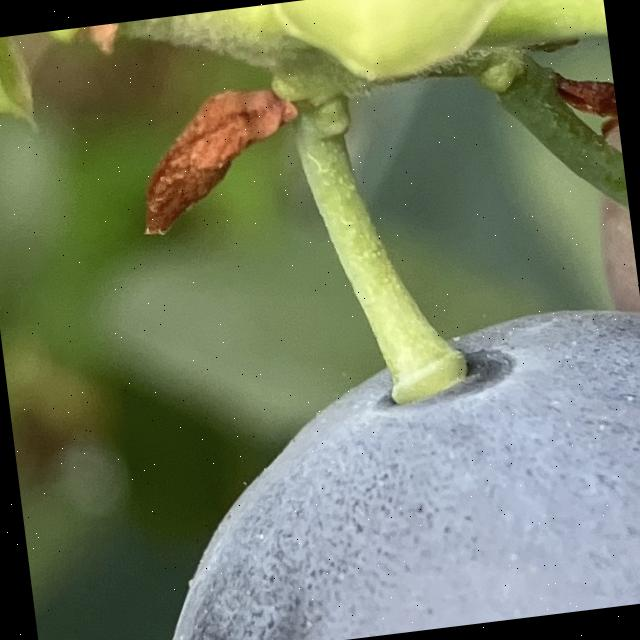Blueberries: (106, 290, 640, 640)
